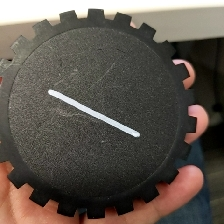gear: (1, 7, 198, 221)
